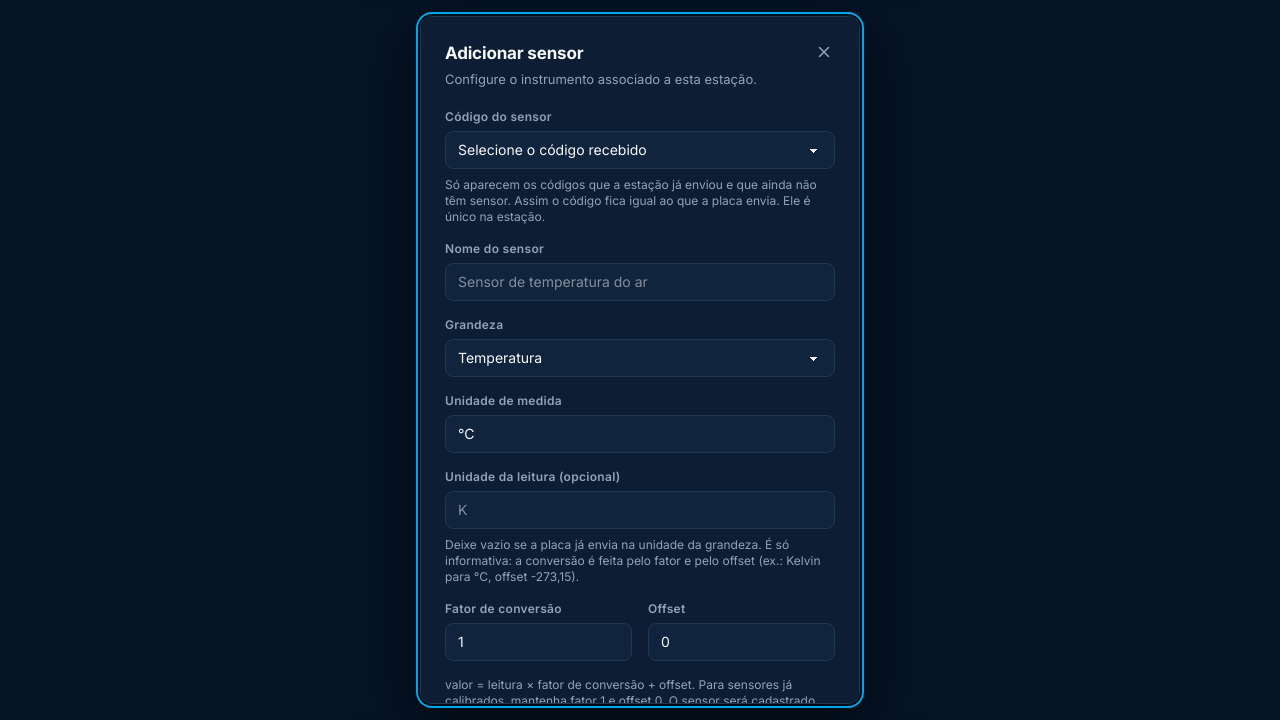
SensorCreateModal: catálogo de grandezas (US-39) › troca a unidade de medida junto com a grandeza escolhida
This screenshot has width=1280, height=720.
Select "Precipitação" in the dropdown labelled "Grandeza" at (640, 358), box [445, 339, 835, 377]
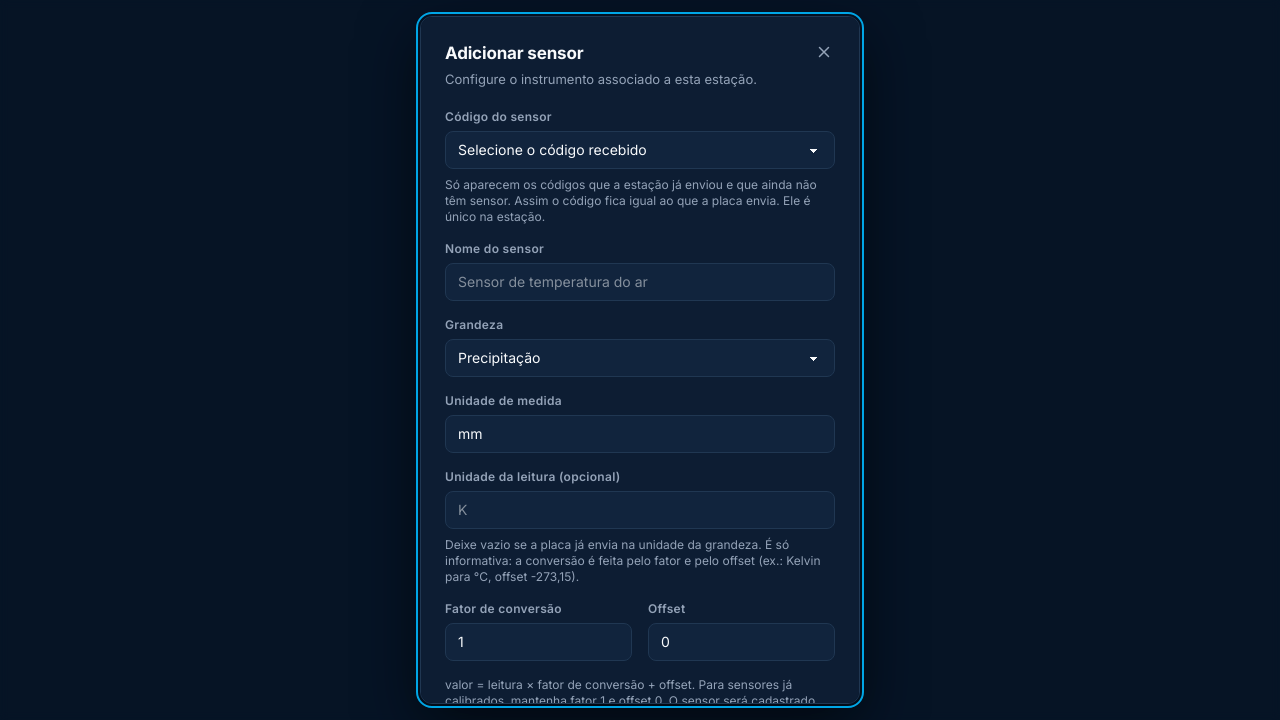
Expected: the field labelled "Unidade de medida" holds "mm", [445, 415, 835, 453]
Select "Nebulosidade" in the dropdown labelled "Grandeza" at (640, 358), box [445, 339, 835, 377]
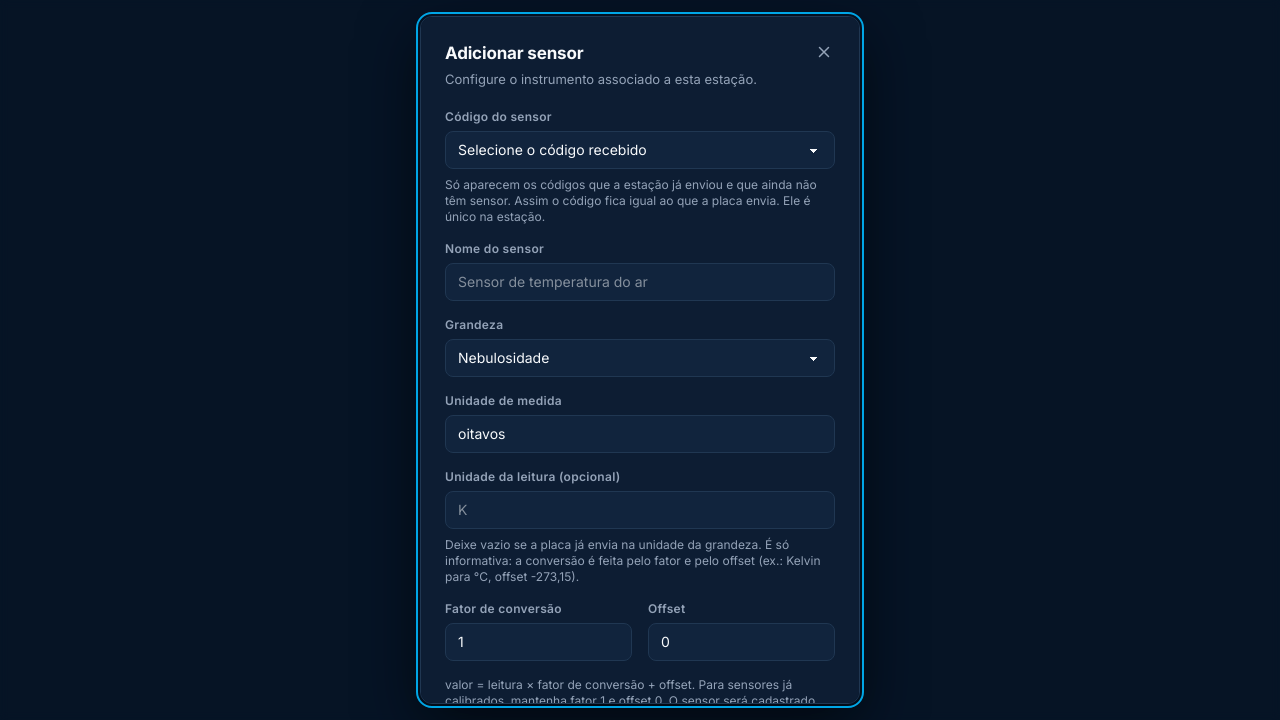
Expected: the field labelled "Unidade de medida" holds "oitavos", [445, 415, 835, 453]
